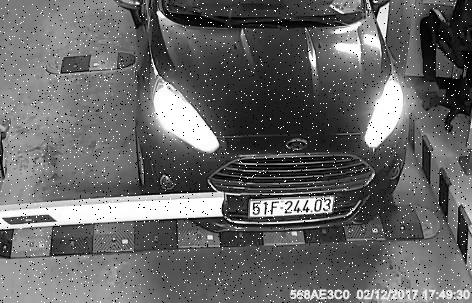License-plate: (245, 194, 345, 222)
